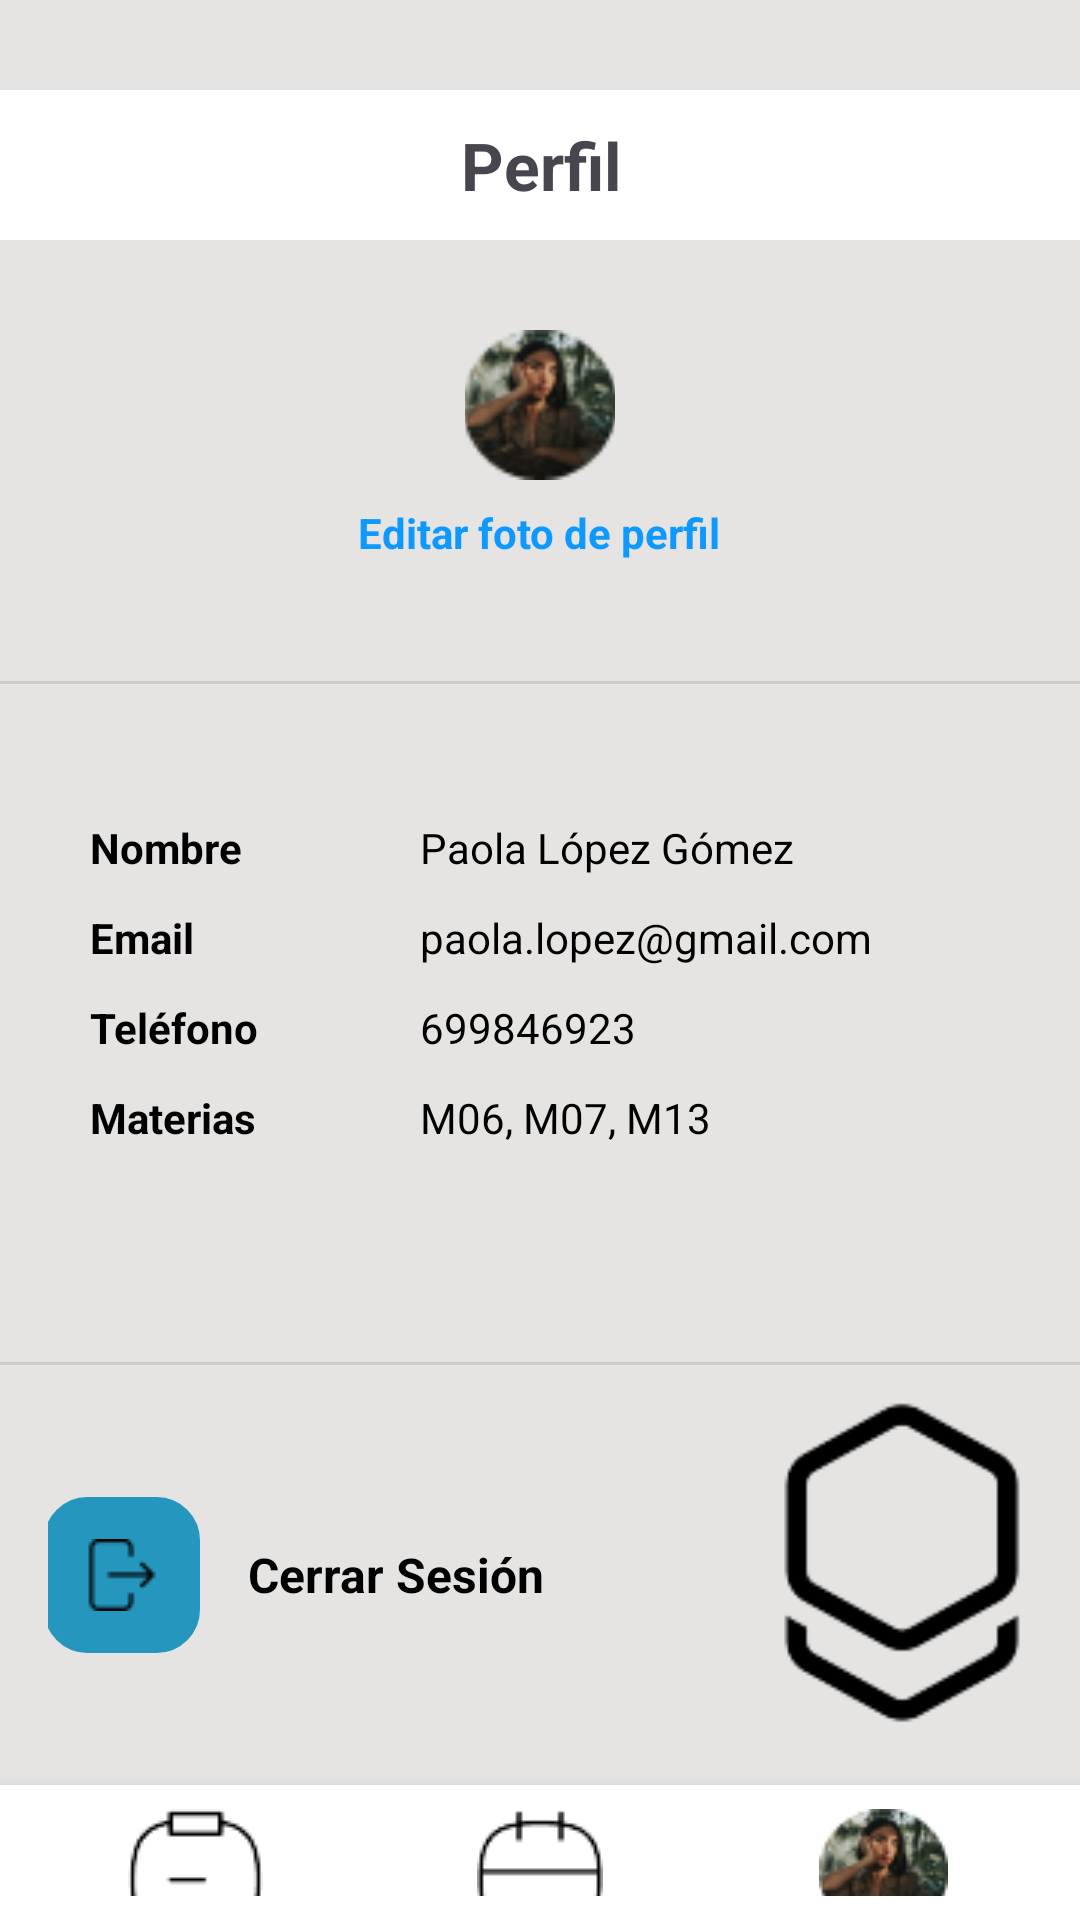

Screen size 1080*1920. Icon name, then its box in pixels as (x1, y1, x2, y2):
cerrarsesion: (48, 1497, 200, 1653)
